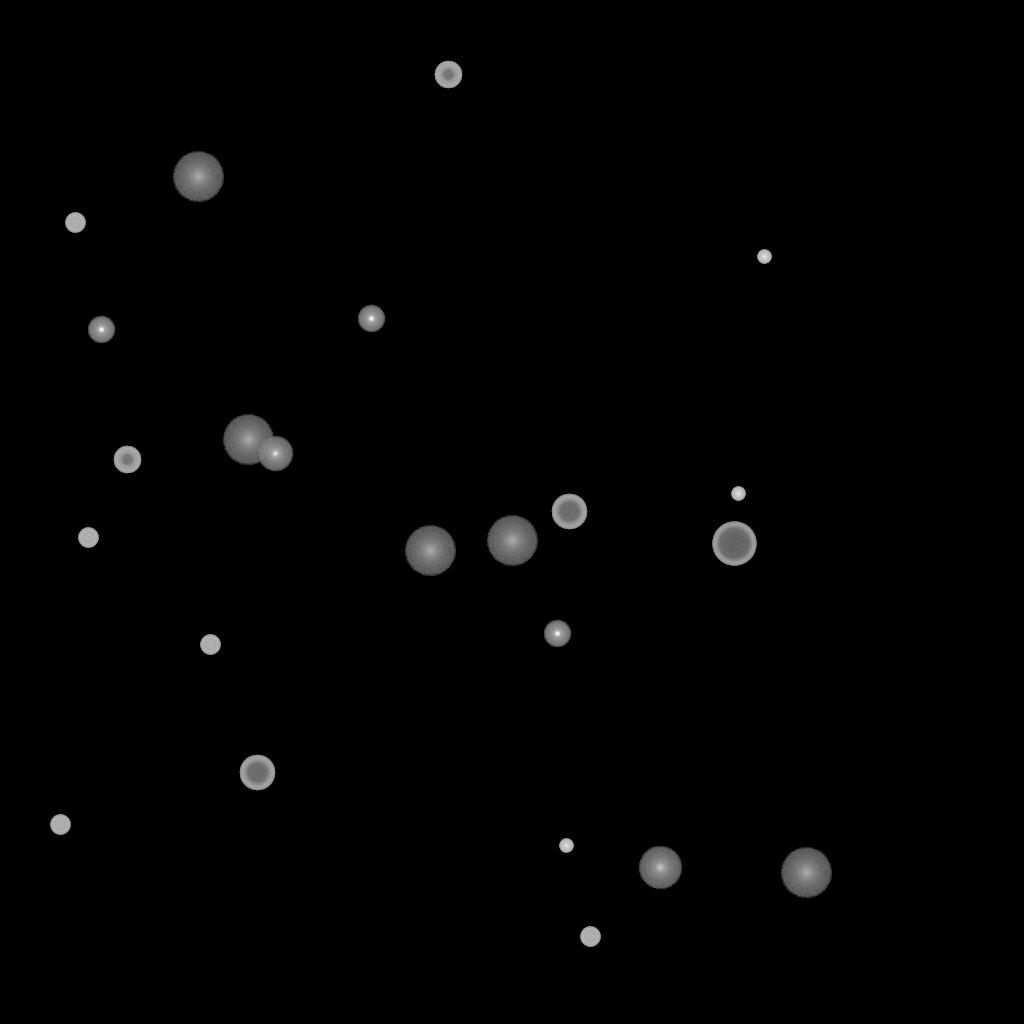depth:-10: (543, 620, 571, 648), (357, 305, 385, 333), (87, 316, 115, 344)
depth:-30: (757, 250, 771, 264), (731, 487, 745, 501), (559, 839, 573, 853)
depth:-40: (200, 635, 220, 655), (65, 213, 85, 233), (580, 927, 600, 947), (78, 528, 98, 548), (50, 815, 70, 835)
depth:-50: (113, 446, 141, 474), (434, 61, 462, 89)
depth:-60: (551, 494, 587, 530), (239, 755, 275, 791)
depth:-70: (712, 522, 756, 566)
depth:0: (257, 436, 293, 472)
depth:10: (638, 846, 682, 890)
depth:20: (172, 152, 224, 202), (404, 526, 456, 576), (486, 516, 538, 566), (222, 415, 274, 465), (780, 848, 832, 898)
